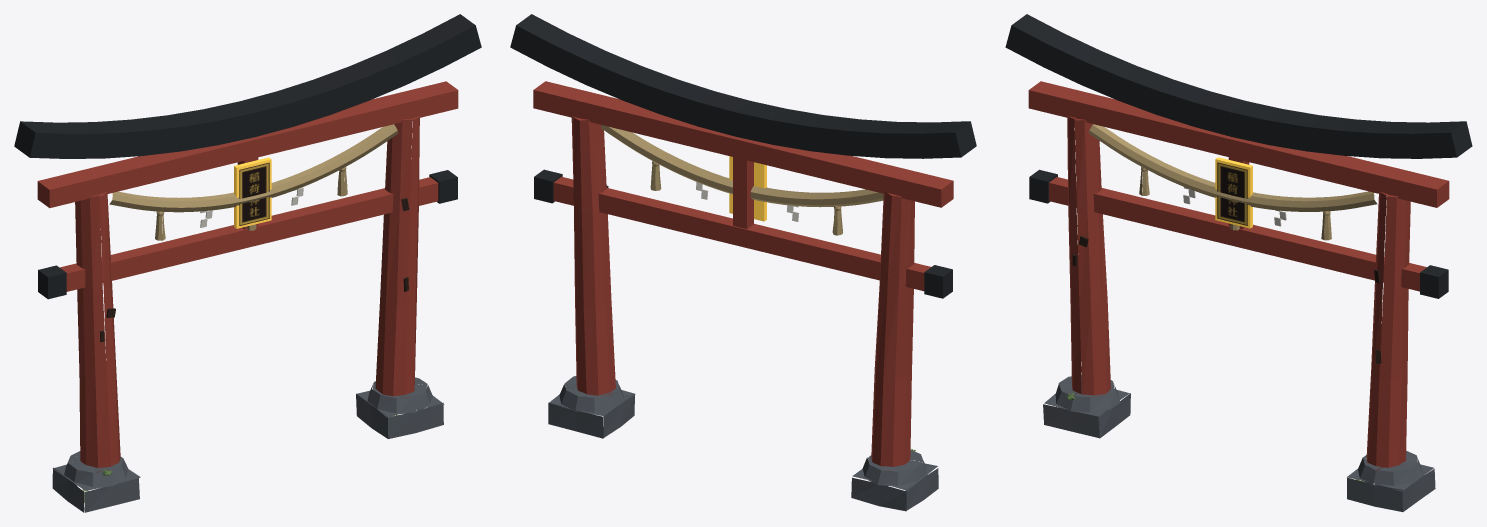
File: 2-05_torii_rope_thick.glb
3 views of the same model, side by side, from view 1: azimuth 30°, elevation 25°; view 2: azimuth 150°, elevation 25°; view 3: azimuth 330°, elevation 25° (orthographic).
Parts seen in each view (by area): view 1: しめ縄（大）; view 2: しめ縄（大）; view 3: しめ縄（大）.
Part boxes in pixels (x1,y1,x2,y2): しめ縄（大）: (14,14,481,512); しめ縄（大）: (510,14,976,511); しめ縄（大）: (1005,14,1472,511).
Size of the model in its own units: 7.74 by 6.3 by 1.01.
9 materials, 1 textured.
